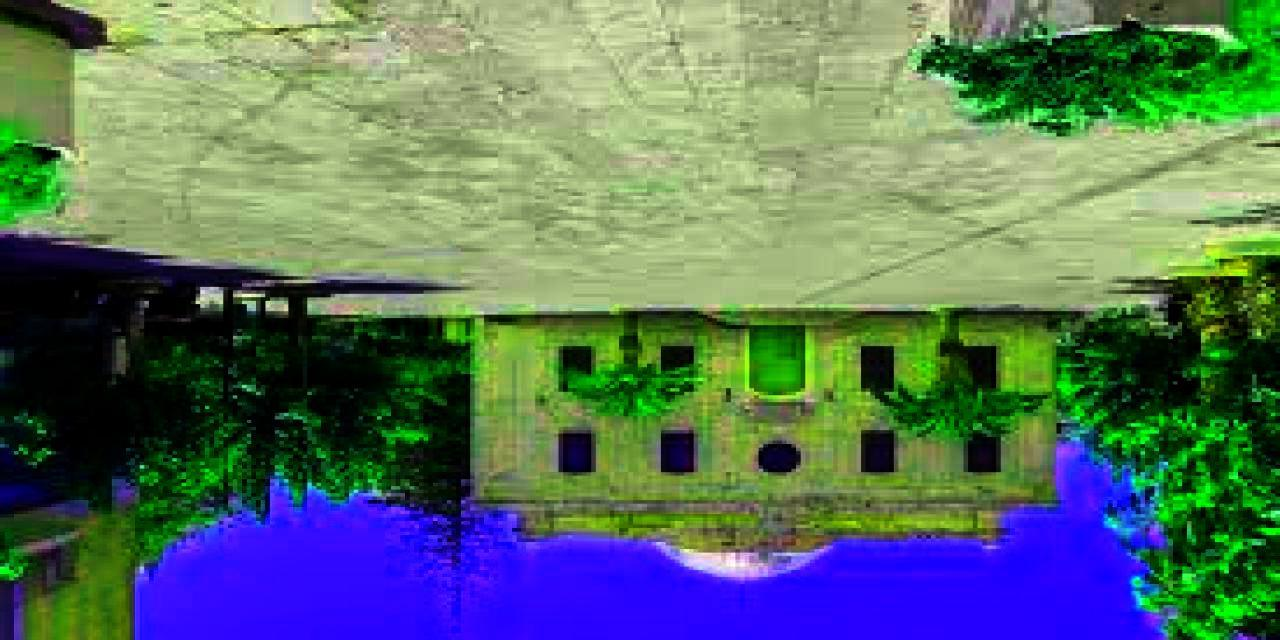Agios Titos: (465, 314, 1074, 592)
